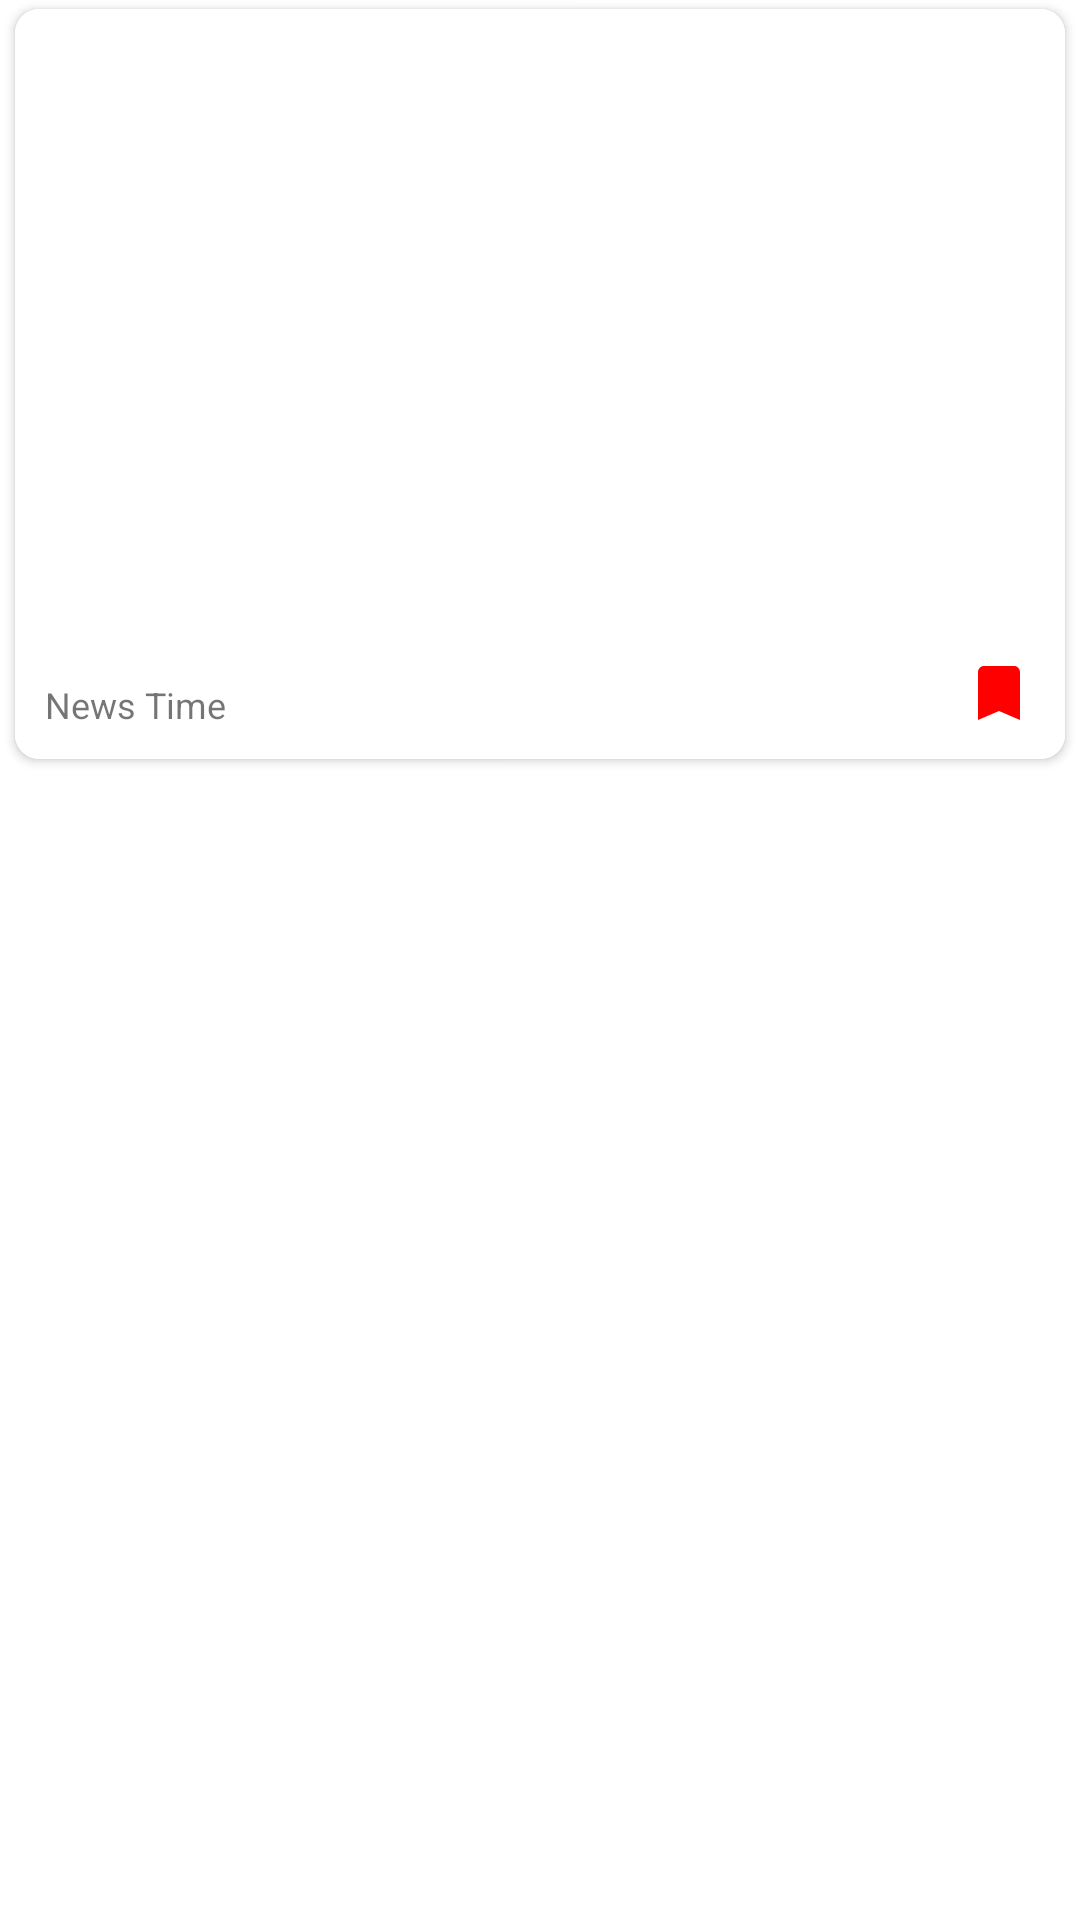

Where to tap for icons on this 1080px×1920px app screen, as (x,y):
bookmark: (999,693)
